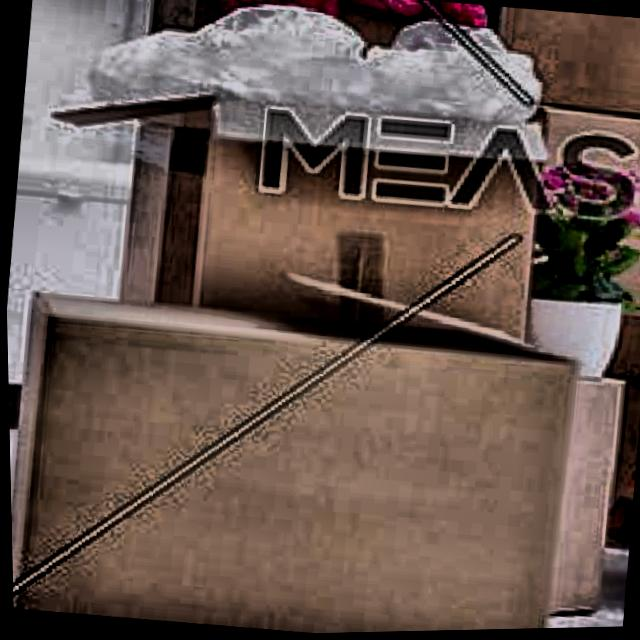Cardbox: (4, 246, 586, 640), (424, 2, 494, 32)
